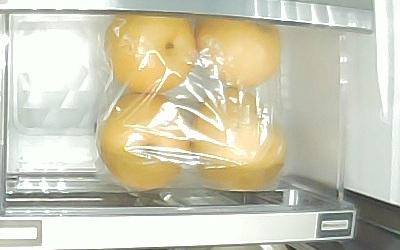pear_vinyl: (193, 86, 286, 189), (97, 92, 192, 189), (104, 12, 196, 93), (197, 16, 281, 86)
